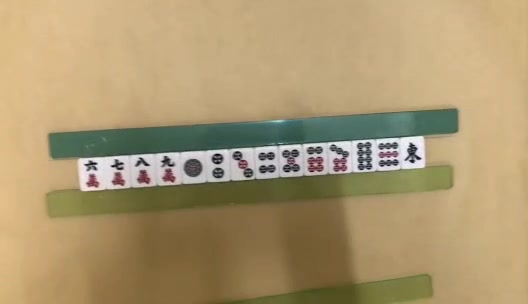1p: (184, 158, 202, 177)
1z: (405, 141, 421, 164)
2p: (212, 152, 225, 179)
3p: (234, 152, 253, 178)
4p: (257, 152, 277, 173)
5p: (282, 148, 299, 172)
6m: (83, 159, 101, 190)
6p: (308, 146, 323, 175)
7m: (110, 159, 127, 187)
7p: (330, 143, 349, 172)
8m: (133, 157, 151, 186)
8p: (357, 143, 373, 171)
9m: (160, 155, 177, 183)
9p: (378, 143, 399, 166)
